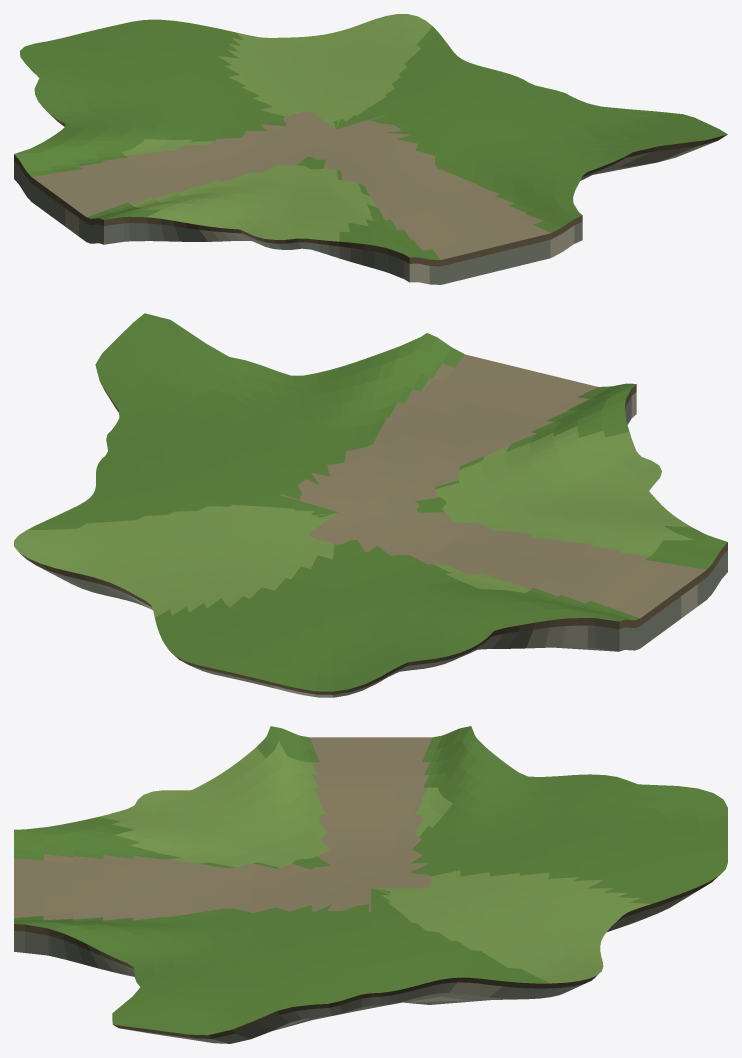
The model's file is forgotten_orchard_gate_structure.fbx.
The picture shows the model from 3 angles, top to bottom: view 1: azimuth 30°, elevation 25°; view 2: azimuth 150°, elevation 25°; view 3: azimuth 270°, elevation 25°; orthographic projection. The views are drawn at different scales.
Visible parts, largest first — view 1: chunk_forgotten_orchard_gate; view 2: chunk_forgotten_orchard_gate; view 3: chunk_forgotten_orchard_gate.
Boxes of the visible parts, bbox=[...] form: chunk_forgotten_orchard_gate: bbox=[14, 14, 727, 284]; chunk_forgotten_orchard_gate: bbox=[14, 313, 727, 697]; chunk_forgotten_orchard_gate: bbox=[14, 726, 727, 1043].
Size of the model in its own units: 256 by 47.53 by 256.
